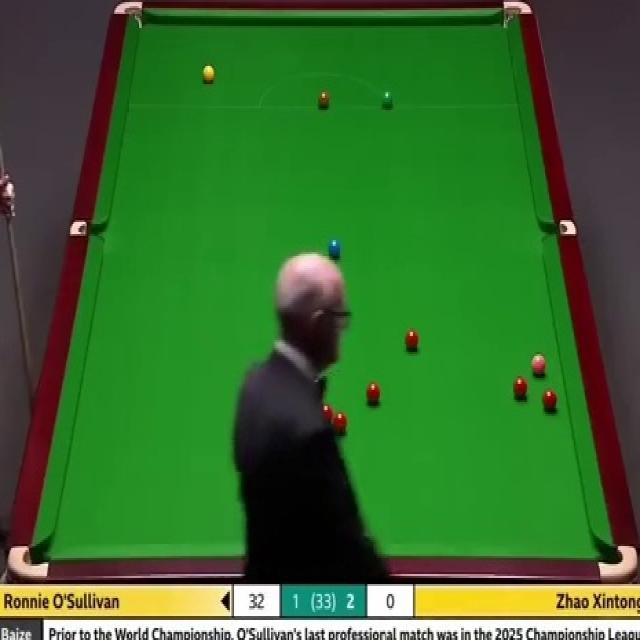blue-ball: (329, 237, 341, 260)
brown-ball: (317, 91, 331, 109)
green-ball: (380, 88, 395, 110)
pink-ball: (530, 353, 547, 375)
red-ball: (364, 380, 382, 408), (542, 388, 560, 412), (403, 328, 420, 351), (512, 375, 527, 400), (320, 403, 333, 428), (335, 411, 347, 438)
yellow-ball: (202, 64, 215, 86)
